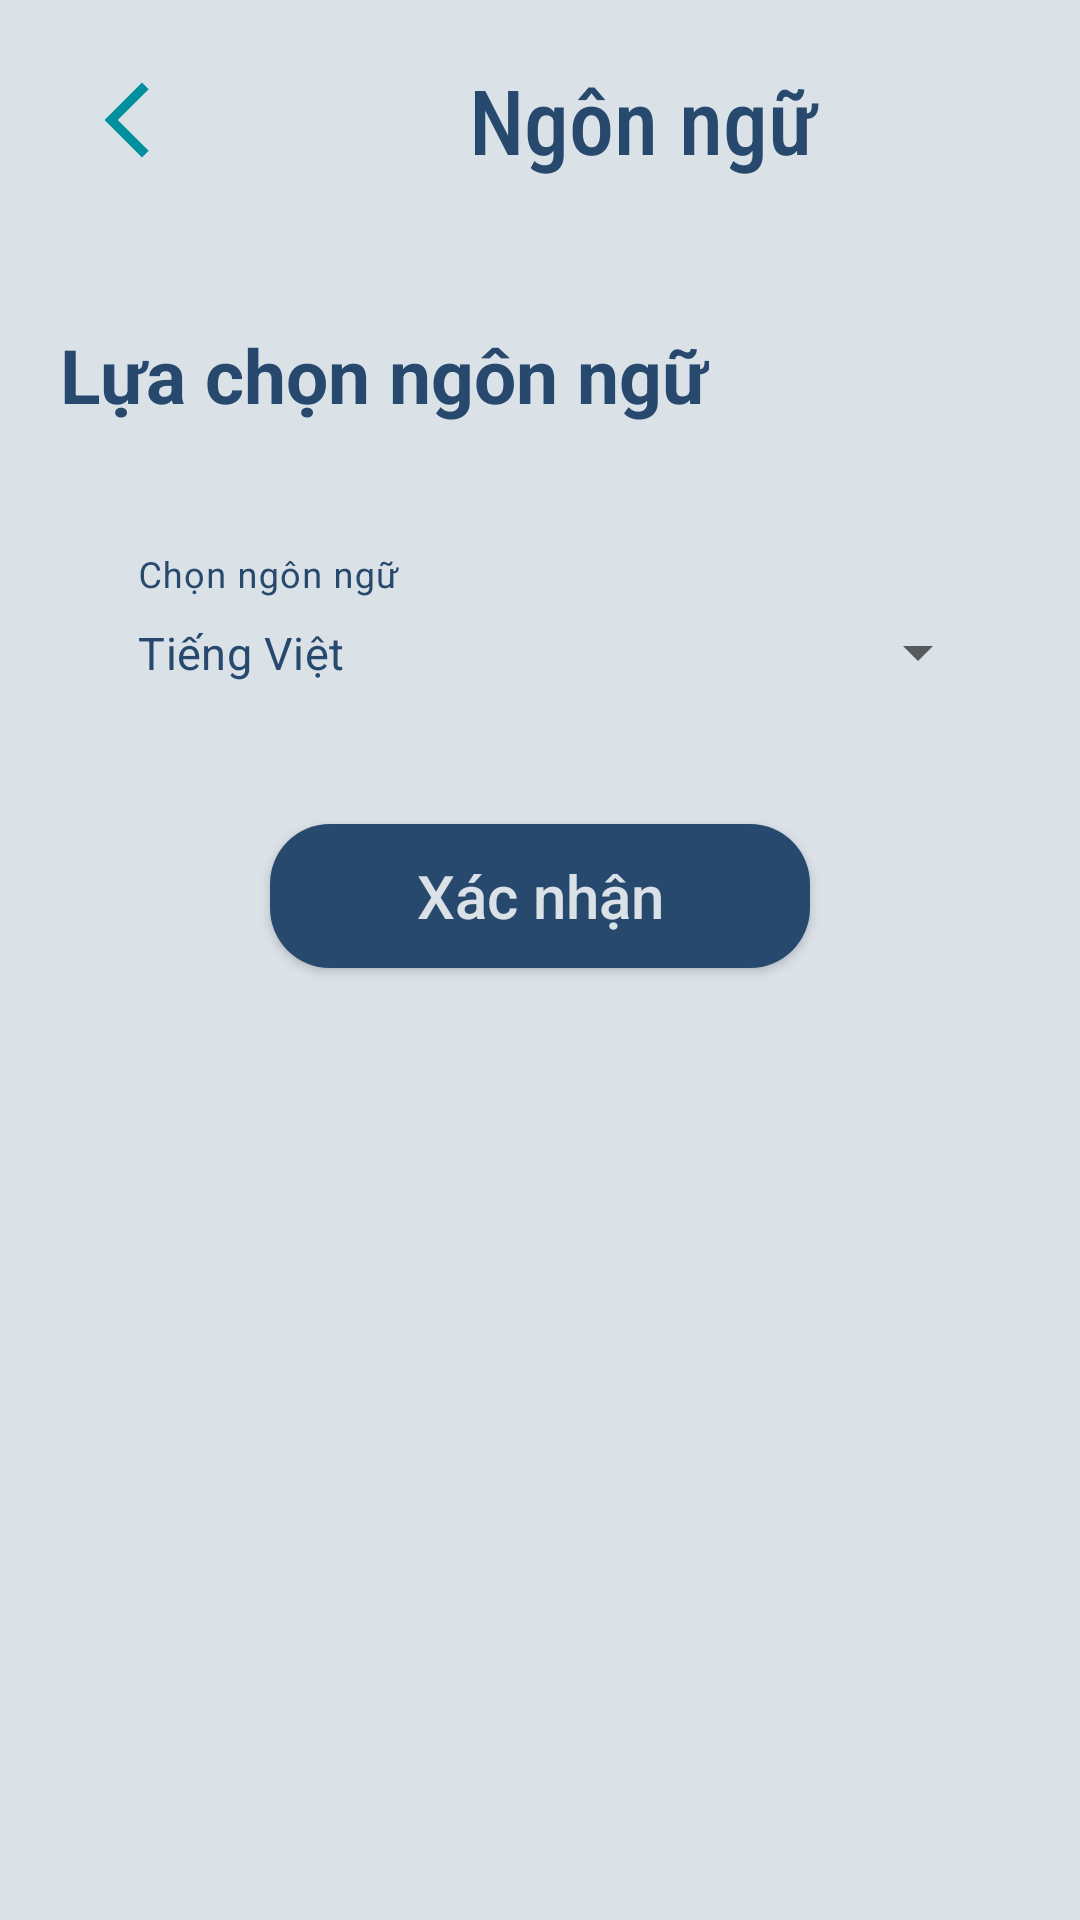

Where to tap for icons on this 1080 x 1920 app screen, as point (x, y):
back: point (126, 120)
